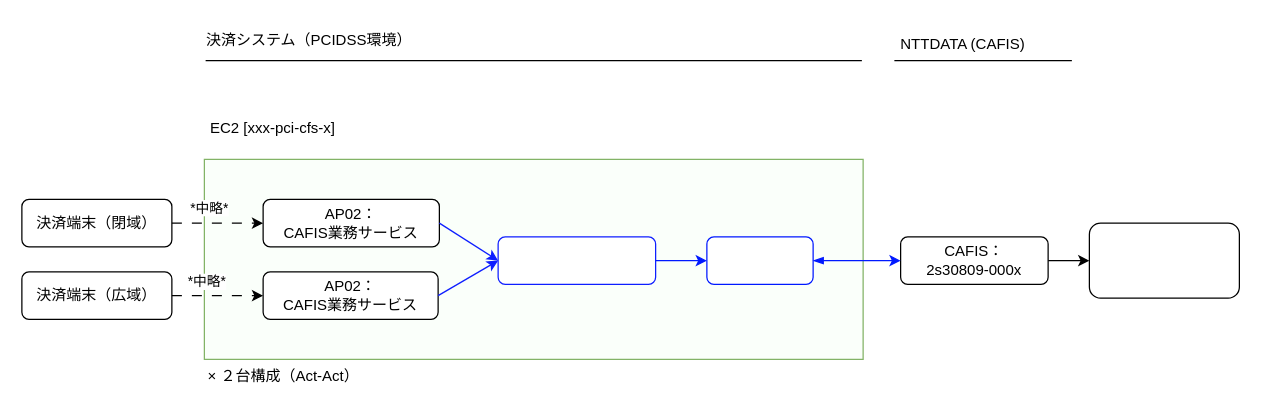
Some shapes in this 1261 by 416 pixel diagram are drawn without their labels. The centre of each missing label's shape, as x and y in pixels:
"Gateway Service" belongs at (759,260).
"Routing Engine" belongs at (576,260).
"カード会社" belongs at (1163,260).
